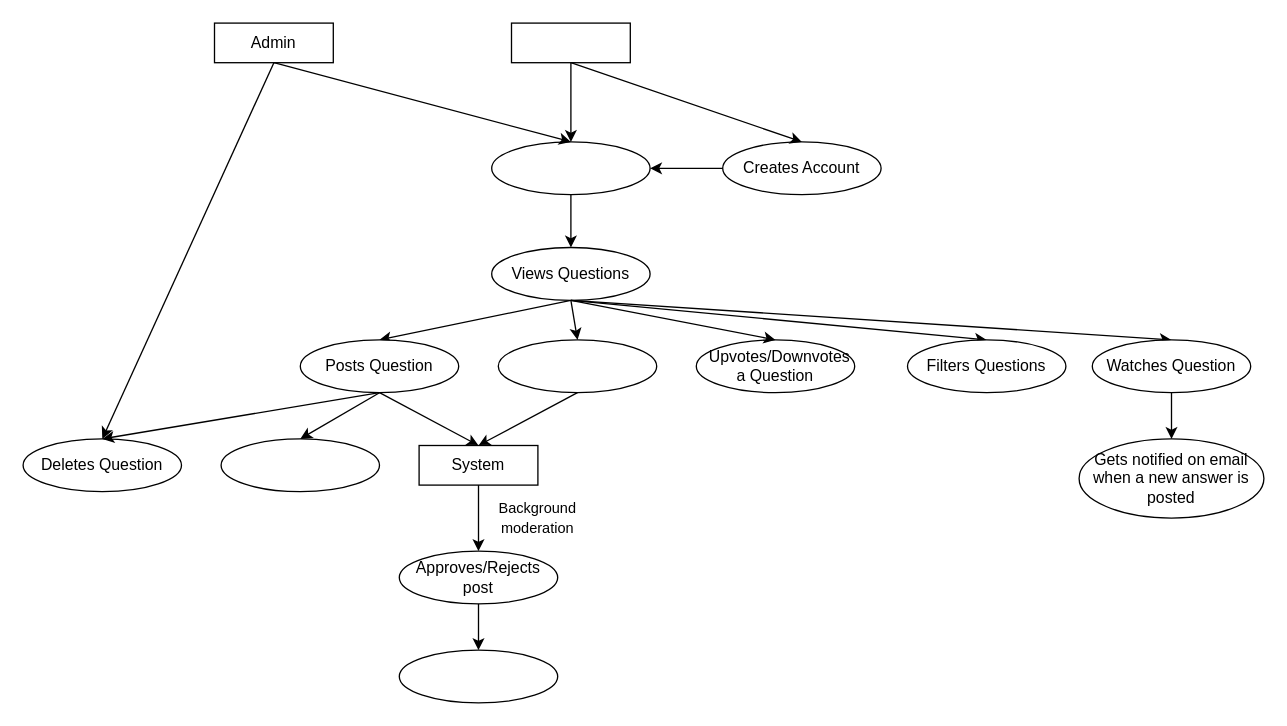
Image size: 1287x726. Some labels were removed from this diagram. The centre of each missing label's shape, as x and y in pixels:
"Answers to a Question" goes at (x=577, y=366).
"Edits Question" goes at (x=300, y=465).
"Logs In" goes at (x=570, y=168).
"Notifies post status" goes at (x=478, y=676).
"User" goes at (x=570, y=42).
